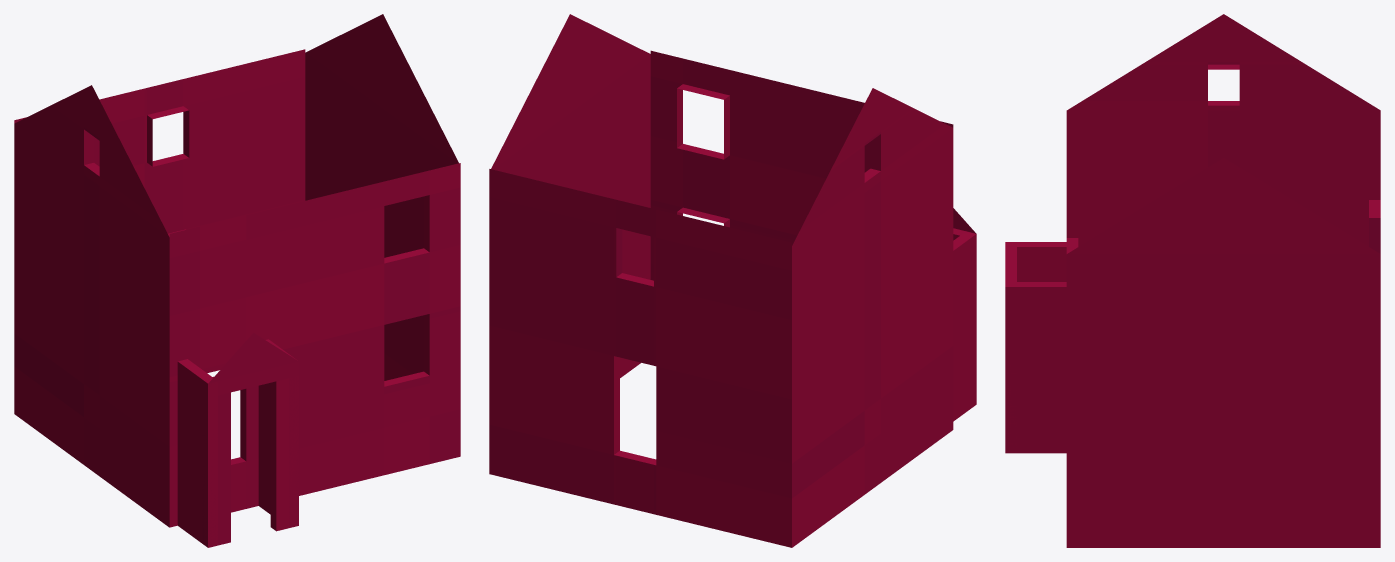
Rendered from SM_Bld_078_Masonry.glb.
3 renders of one model, left to right at view 1: azimuth 30°, elevation 25°; view 2: azimuth 150°, elevation 25°; view 3: azimuth 270°, elevation 25°, orthographic. The views are drawn at different scales.
Parts seen in each view (by area): view 1: SM_Bld_078_Masonry; view 2: SM_Bld_078_Masonry; view 3: SM_Bld_078_Masonry.
Part boxes in pixels (x1,y1,x2,y2): SM_Bld_078_Masonry: (14, 14, 460, 547); SM_Bld_078_Masonry: (489, 14, 976, 547); SM_Bld_078_Masonry: (1005, 14, 1380, 547).
Size of the model in its own units: 6.4 by 8.1 by 7.07.
